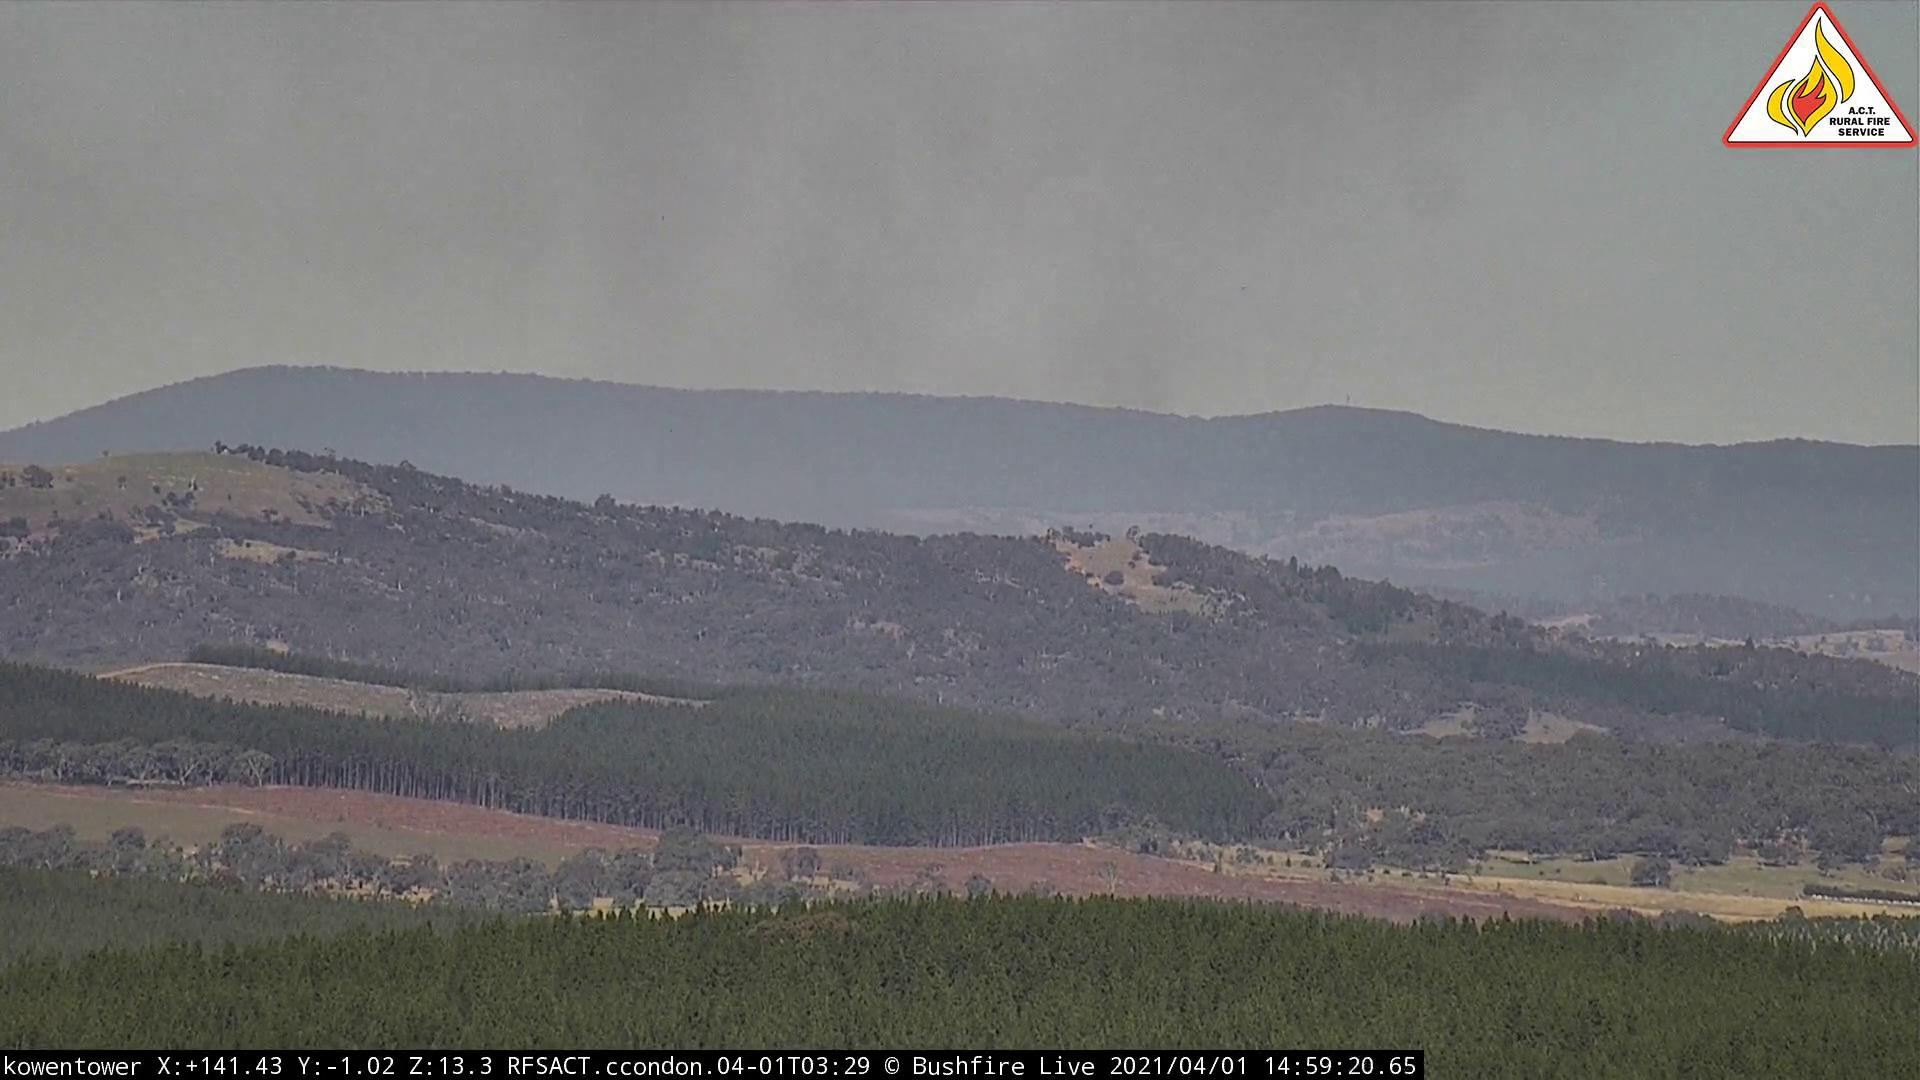instance_salient_object: (334, 3, 1581, 429)
